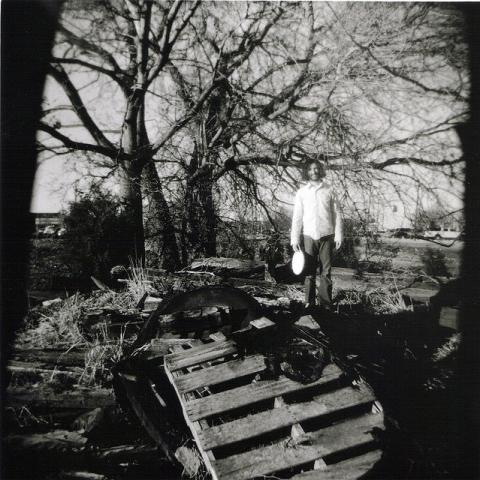car: (422, 227, 465, 240), (387, 228, 408, 239), (44, 226, 61, 234), (386, 229, 398, 232)
